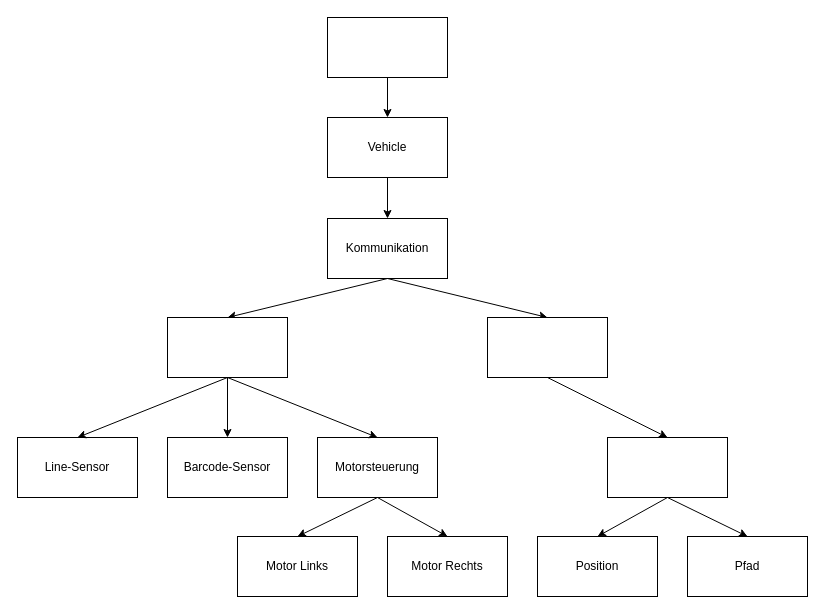
Some shapes in this 825 by 614 pixel diagram are drawn without their labels. The box of each missing label's shape, as (x1, y1, x2, y2) in pixels:
ESP to Arduino: (166, 316, 288, 378)
ESP to ESP V2V Kommunikation: (486, 316, 608, 378)
Spiel: (326, 16, 448, 78)
WLAN: (606, 436, 728, 498)
